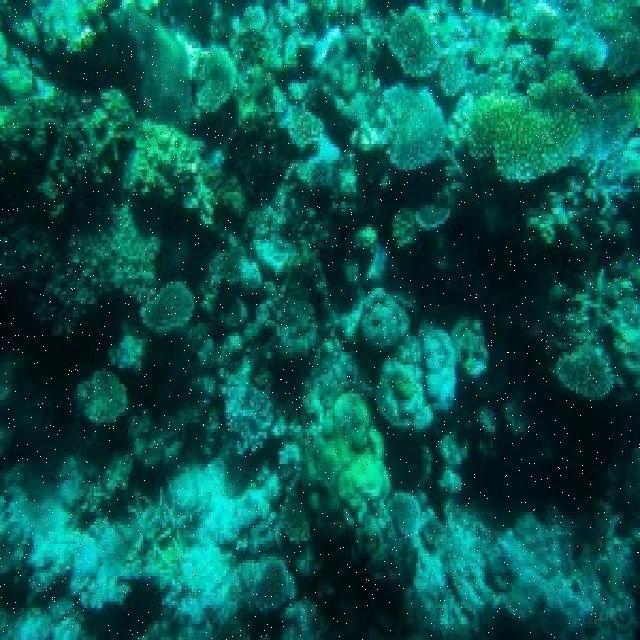Bleached: (422, 532, 581, 619), (176, 480, 259, 617), (24, 494, 124, 601), (512, 1, 613, 65), (404, 342, 466, 425), (49, 1, 90, 45)
Healthy: (3, 101, 207, 318), (551, 274, 640, 418), (468, 102, 596, 172), (312, 396, 389, 502)
